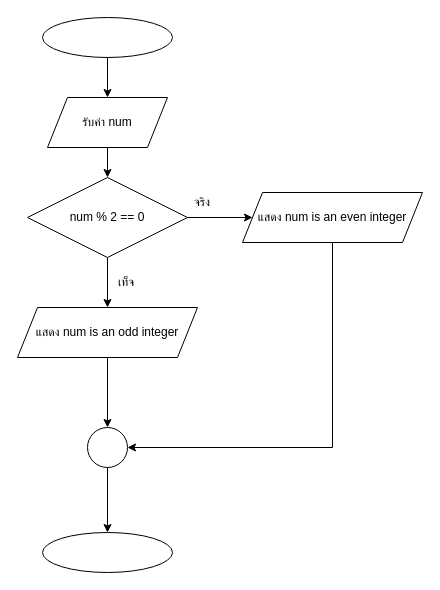
Image size: 440x590. Some labels were removed from this diagram. The shapes that lost their labels are listed below. From the top down, each one's box as (x1, y1, x2, y2) in pixels, then its label:
(42, 16, 172, 58): start
(42, 532, 172, 572): end
